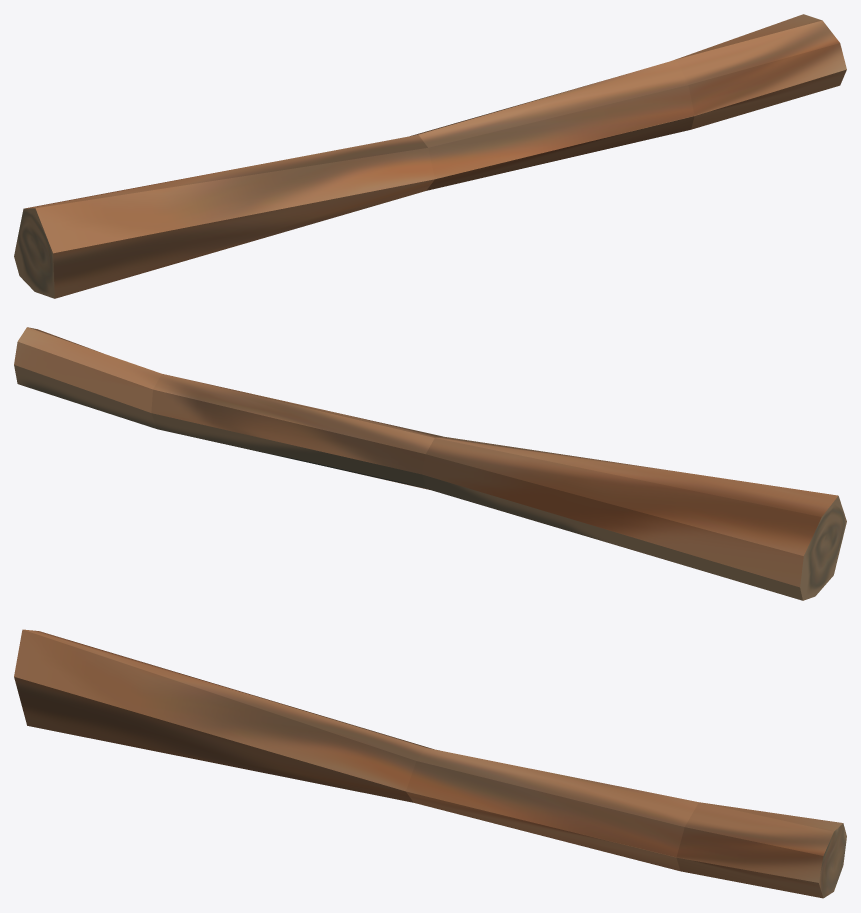
Rendered from wood-block-08.obj.
3 renders of one model, top to bottom at view 1: azimuth 30°, elevation 25°; view 2: azimuth 150°, elevation 25°; view 3: azimuth 330°, elevation 25°, orthographic.
Parts seen in each view (by area): view 1: wood-block-08; view 2: wood-block-08; view 3: wood-block-08.
Boxes of the visible parts, x1,y1,x2,y2 form: wood-block-08: (14, 14, 846, 298); wood-block-08: (14, 327, 846, 600); wood-block-08: (14, 629, 846, 898).
Size of the model in its own units: 3.2 by 0.3618 by 0.3188.
